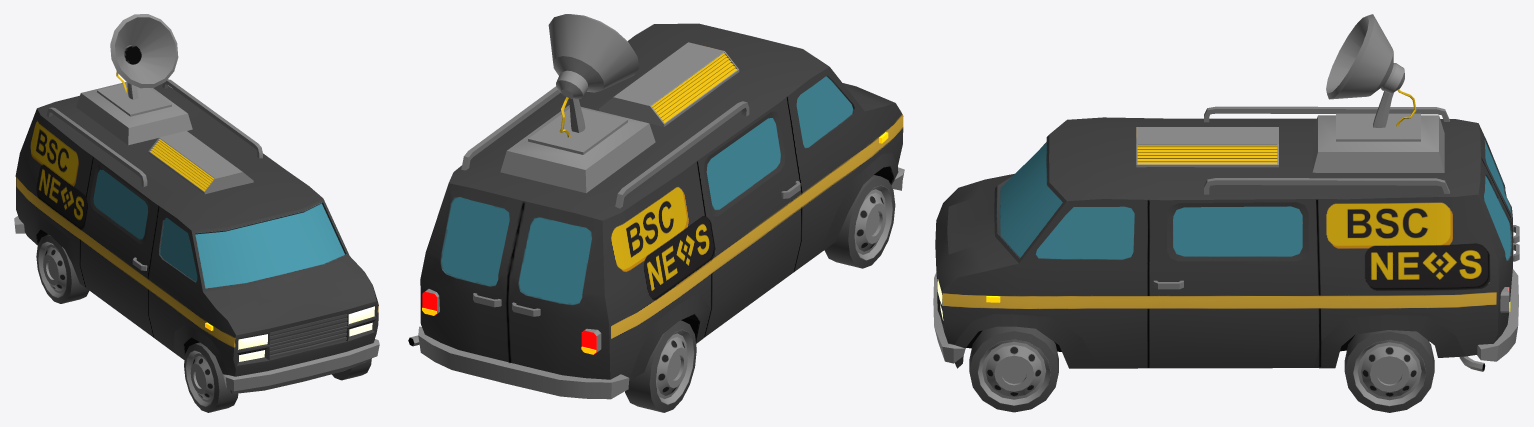
File: BSCNEWS-VAN.fbx
3 views of the same model, side by side, from view 1: azimuth 30°, elevation 25°; view 2: azimuth 150°, elevation 25°; view 3: azimuth 270°, elevation 25° (orthographic). The views are drawn at different scales.
Visible parts, largest first — view 1: News-Van, NewsVanWheelFR, NewsVanWheelBR, NewsVanWheelFL; view 2: News-Van, NewsVanWheelBR, NewsVanWheelFR; view 3: News-Van, NewsVanWheelFL, NewsVanWheelBL.
Part boxes in pixels (x1=…): News-Van: x1=14, y1=14, x2=379, y2=393; NewsVanWheelFR: x1=184, y1=342, x2=238, y2=412; NewsVanWheelBR: x1=36, y1=234, x2=89, y2=303; NewsVanWheelFL: x1=332, y1=358, x2=371, y2=380; News-Van: x1=408, y1=14, x2=904, y2=399; NewsVanWheelBR: x1=625, y1=320, x2=696, y2=412; NewsVanWheelFR: x1=824, y1=175, x2=895, y2=268; News-Van: x1=933, y1=14, x2=1519, y2=371; NewsVanWheelFL: x1=969, y1=326, x2=1058, y2=412; NewsVanWheelBL: x1=1344, y1=330, x2=1434, y2=412.
Size of the model in its own units: 203 by 318 by 488.
